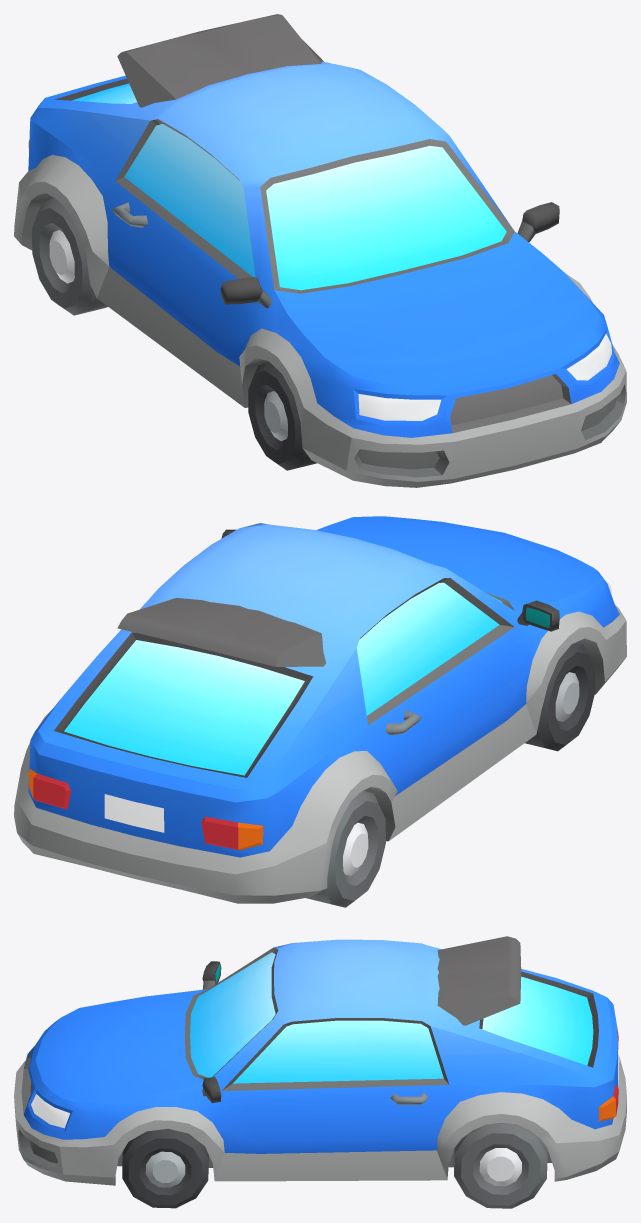
Rendered from city2-car-39.glb.
3 views of the same model, one above another, from view 1: azimuth 30°, elevation 25°; view 2: azimuth 150°, elevation 25°; view 3: azimuth 270°, elevation 25° (orthographic). The views are drawn at different scales.
Visible parts, largest first — view 1: Car_1.001, Wheel_110, Wheel_109; view 2: Car_1.001, Wheel_110, Wheel_109; view 3: Car_1.001, Wheel_112, Wheel_111.
Part boxes in pixels (left/top/right/bottom): Car_1.001: left=14, top=14, right=626, bottom=487; Wheel_110: left=32, top=198, right=107, bottom=315; Wheel_109: left=248, top=361, right=316, bottom=470; Car_1.001: left=14, top=516, right=626, bottom=903; Wheel_110: left=306, top=791, right=385, bottom=907; Wheel_109: left=525, top=643, right=595, bottom=751; Car_1.001: left=14, top=936, right=626, bottom=1185; Wheel_112: left=454, top=1123, right=547, bottom=1208; Wheel_111: left=122, top=1128, right=208, bottom=1208.
Size of the model in its own units: 2.44 by 1.67 by 4.9.
Materials: 2 (2 with a texture image).
